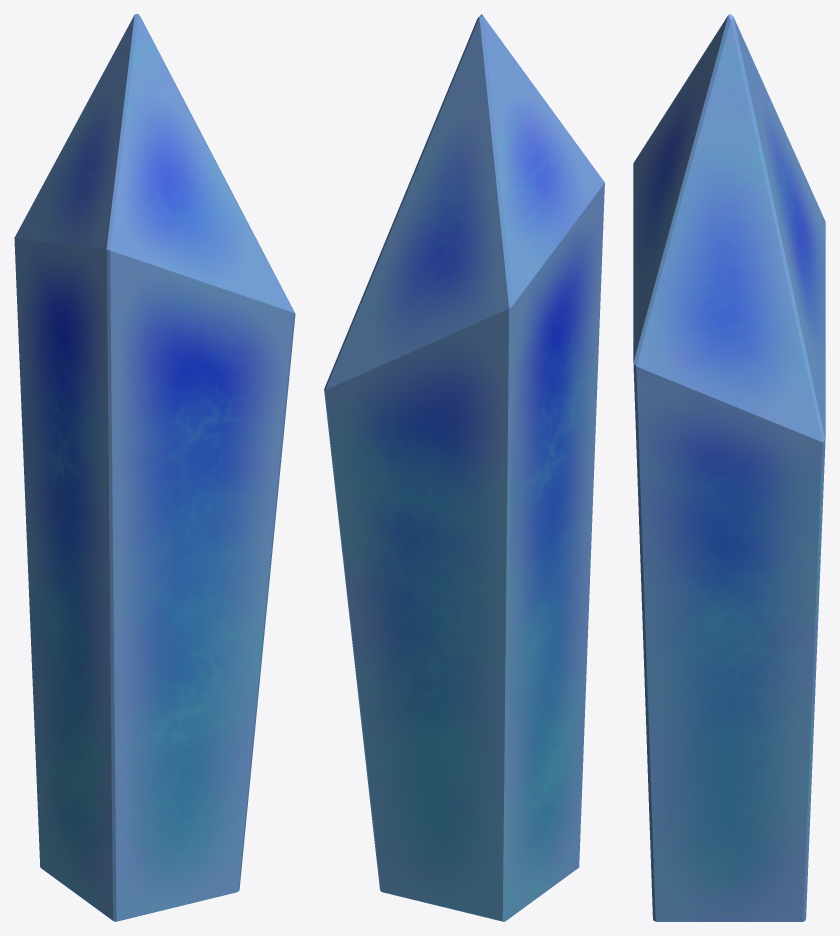
The model's file is IceSpike_Version2_Medium.fbx.
3 renders of one model, left to right at view 1: azimuth 30°, elevation 25°; view 2: azimuth 150°, elevation 25°; view 3: azimuth 270°, elevation 25°, orthographic.
Parts seen in each view (by area): view 1: Ice spike medium; view 2: Ice spike medium; view 3: Ice spike medium.
Part boxes in pixels (box(x1,y1,x2,y2)): Ice spike medium: box(14, 14, 295, 921); Ice spike medium: box(324, 14, 604, 921); Ice spike medium: box(633, 14, 825, 921).
Bounding box in the file's own units: 22.05 × 96.71 × 19.21.
